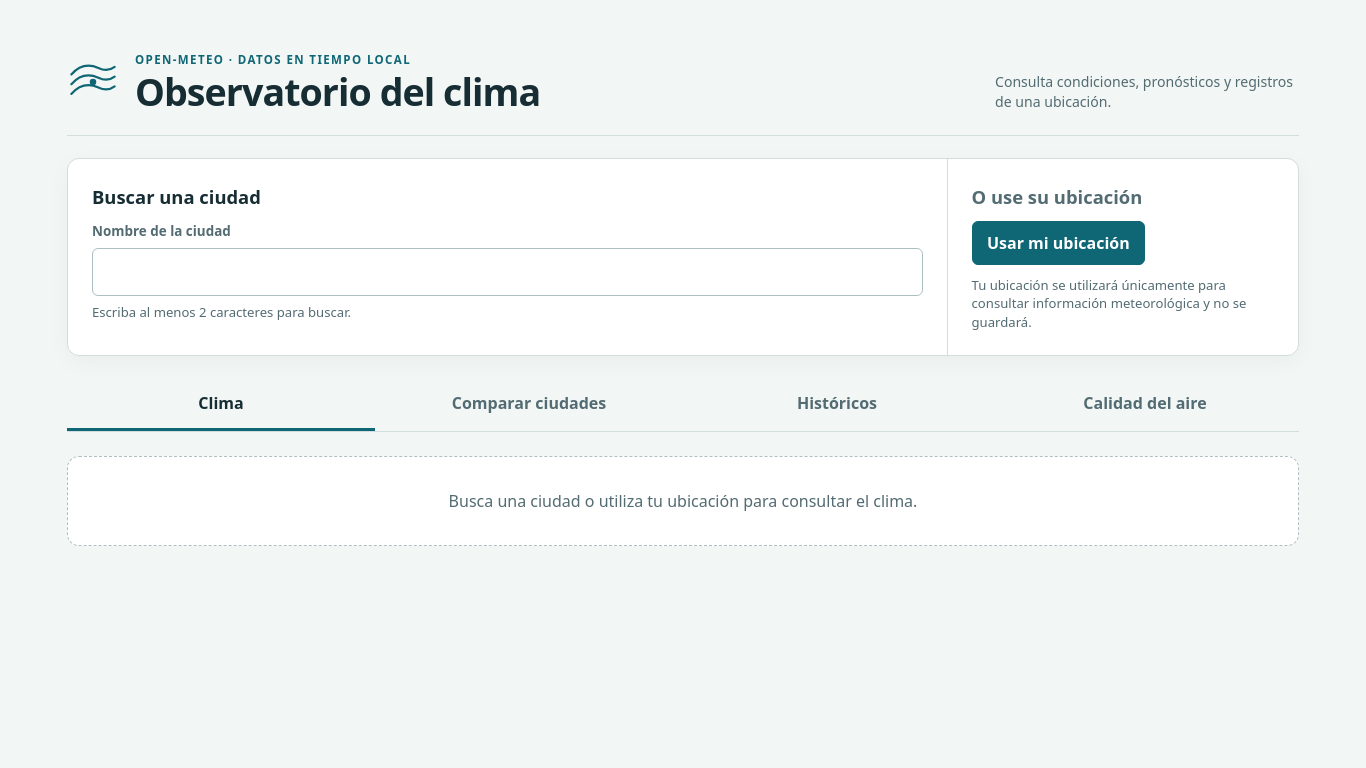
Test: RF-03: geolocalización del navegador › maneja timeout y permite reintento manual
The image size is (1366, 768).
Click the button "Usar mi ubicación": coordinates (1058, 243) [972,221,1145,265]
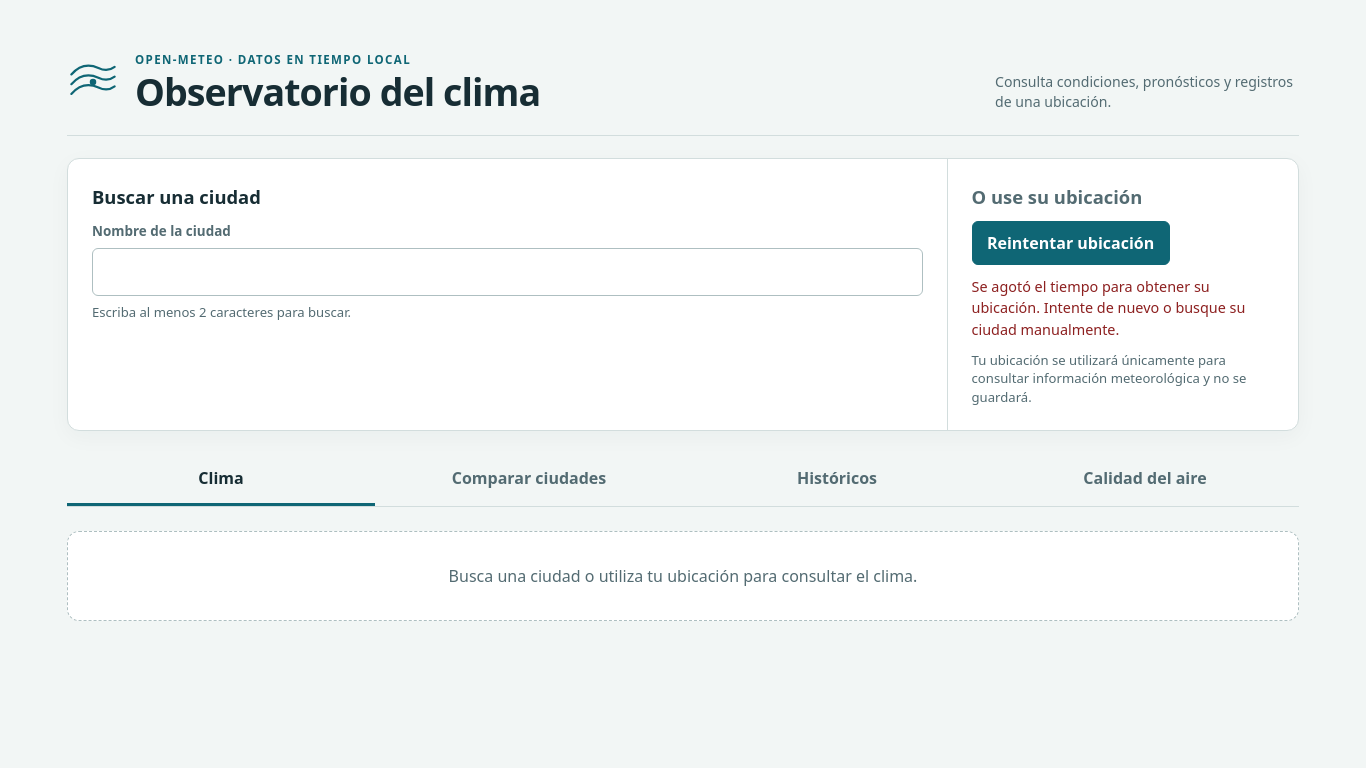
Expected: the message shows "Se agotó el tiempo para obtener su ubicación. Intente de nuevo o busque su ciudad manualmente.", [972,277,1245,339]
Click the button "Reintentar ubicación": coordinates (1071, 243) [972,221,1170,265]
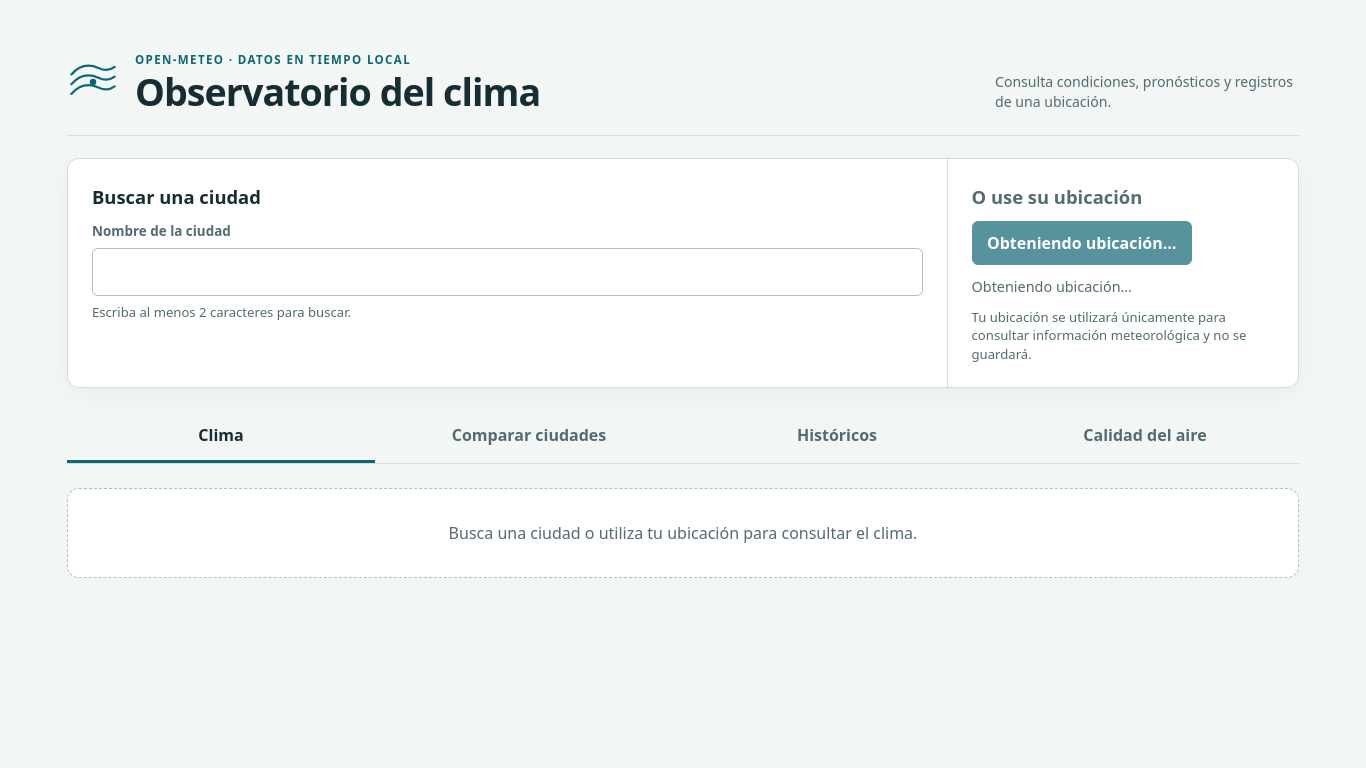
Expected: the message reads "Obteniendo ubicación…", [972,277,1132,296]
